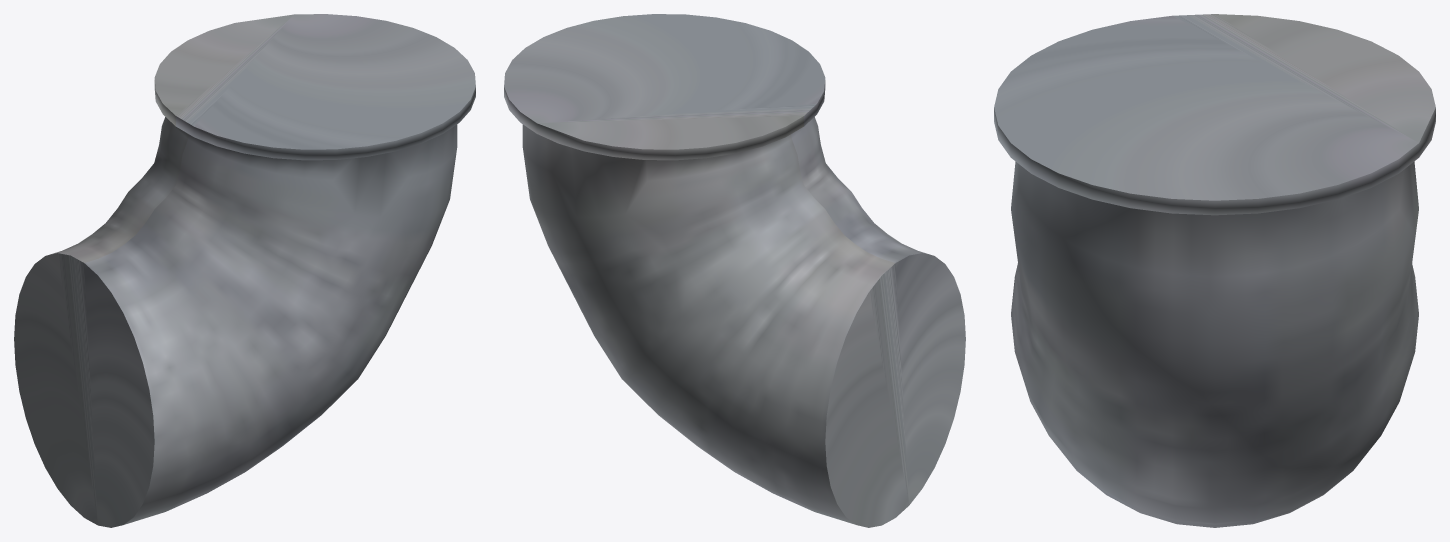
File: air_duct_end_a.glb
3 views of the same model, side by side, from view 1: azimuth 30°, elevation 25°; view 2: azimuth 150°, elevation 25°; view 3: azimuth 270°, elevation 25° (orthographic). The views are drawn at different scales.
Visible parts, largest first — view 1: air_duct_end_a; view 2: air_duct_end_a; view 3: air_duct_end_a.
Part boxes in pixels (<box>): air_duct_end_a: <box>14,14,475,527</box>; air_duct_end_a: <box>504,14,965,527</box>; air_duct_end_a: <box>994,14,1435,527</box>.
Bounding box in the file's own units: 0.4009 × 0.3928 × 0.3019.
1 material, 1 textured.
